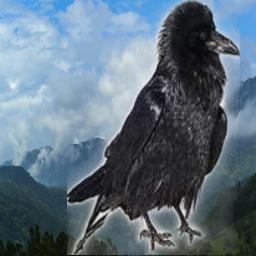Crow: (67, 0, 240, 255)
